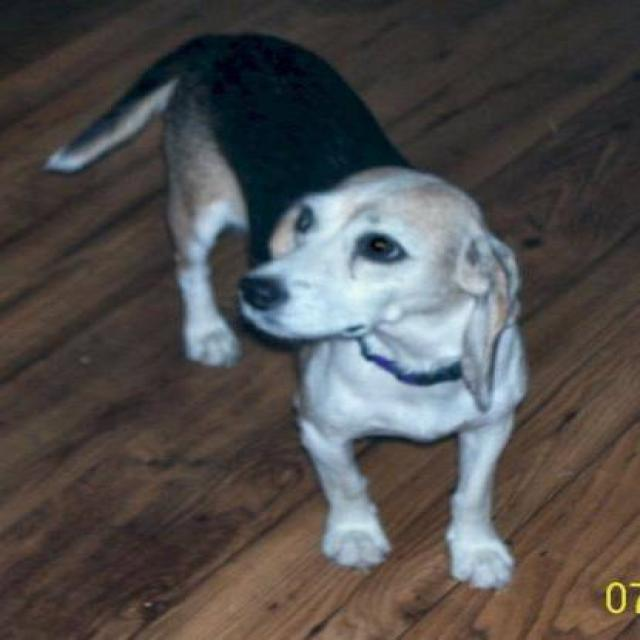dog: (42, 29, 416, 368), (234, 164, 529, 590)
